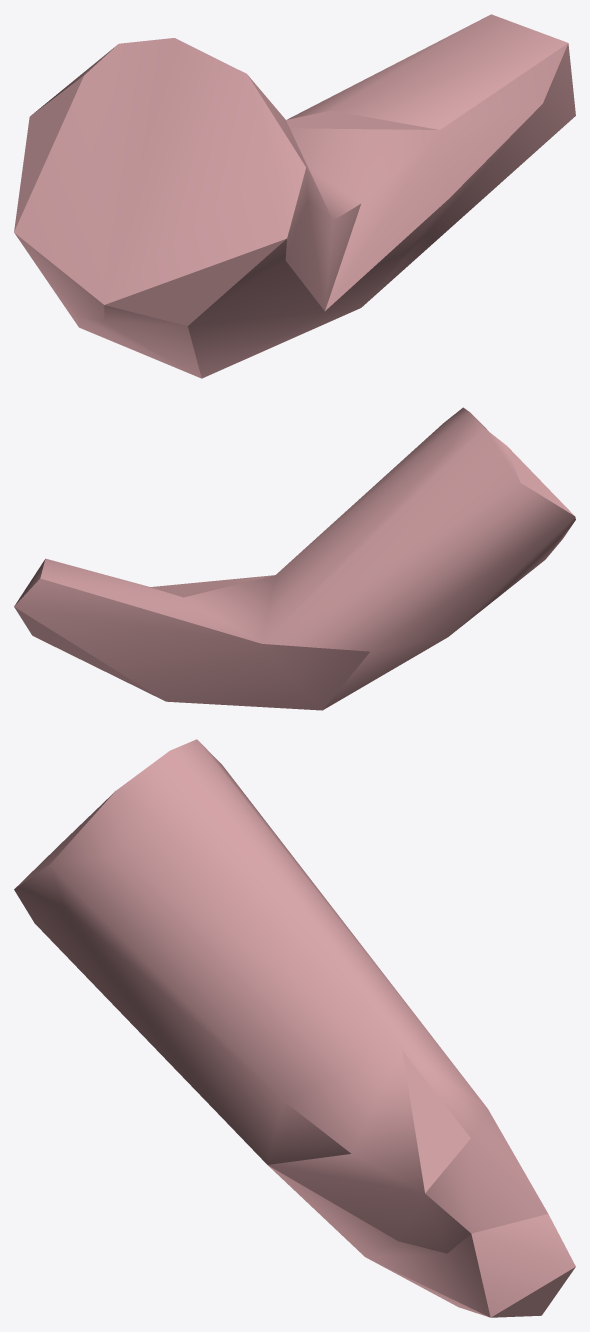
The model's file is fma68226_fj6586.glb.
The picture shows the model from 3 angles, top to bottom: view 1: azimuth 30°, elevation 25°; view 2: azimuth 150°, elevation 25°; view 3: azimuth 270°, elevation 25°; orthographic projection. The views are drawn at different scales.
Visible parts, largest first — view 1: FMA68226_FJ6586; view 2: FMA68226_FJ6586; view 3: FMA68226_FJ6586.
Part boxes in pixels (x1,y1,x2,y2): FMA68226_FJ6586: (14, 14, 575, 378); FMA68226_FJ6586: (14, 407, 575, 710); FMA68226_FJ6586: (14, 739, 575, 1317).
Bounding box in the file's own units: 0.0101 × 0.00565 × 0.00729.
